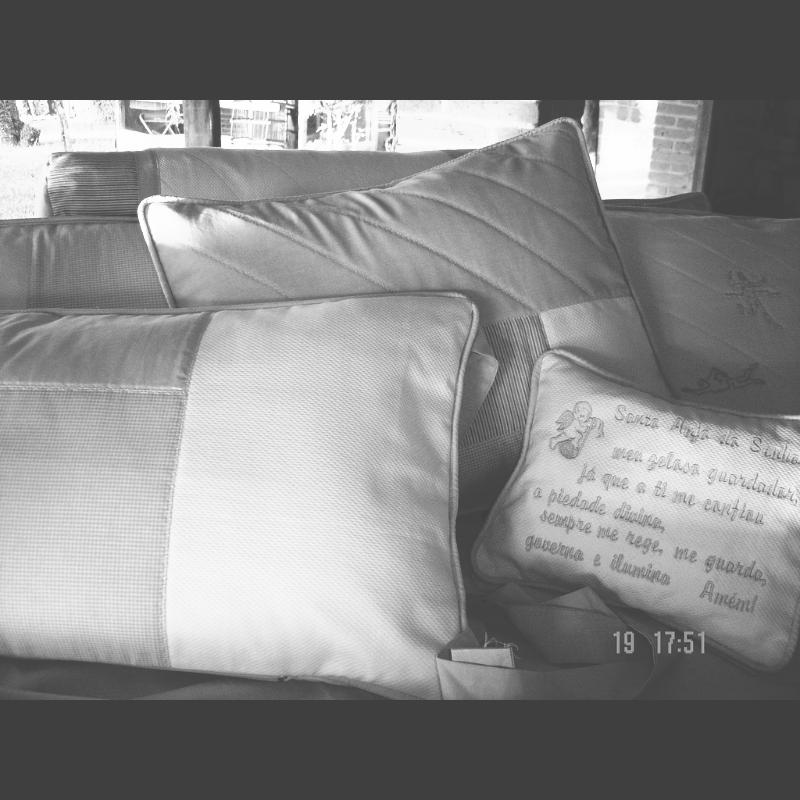pillow: (137, 125, 690, 525), (481, 362, 799, 676)
